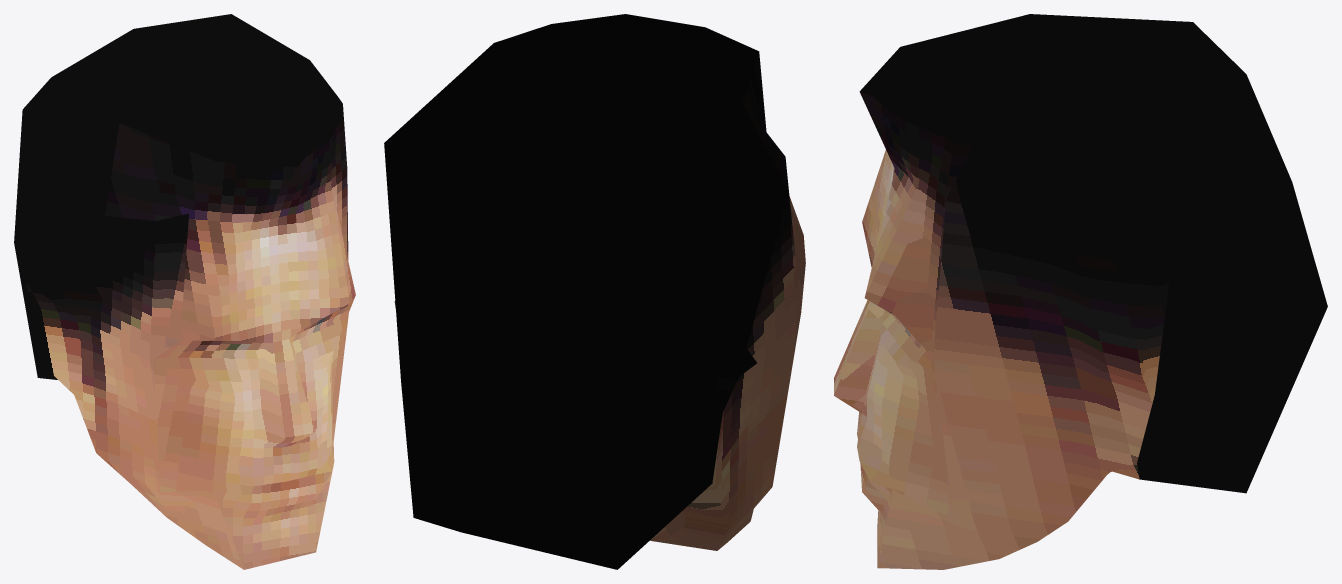
The model's file is CheadbrosnanboilerZ.obj.
3 views of the same model, side by side, from view 1: azimuth 30°, elevation 25°; view 2: azimuth 150°, elevation 25°; view 3: azimuth 270°, elevation 25° (orthographic). The views are drawn at different scales.
Bounding box in the file's own units: 152 × 221 × 194.
4 materials, 4 textured.
